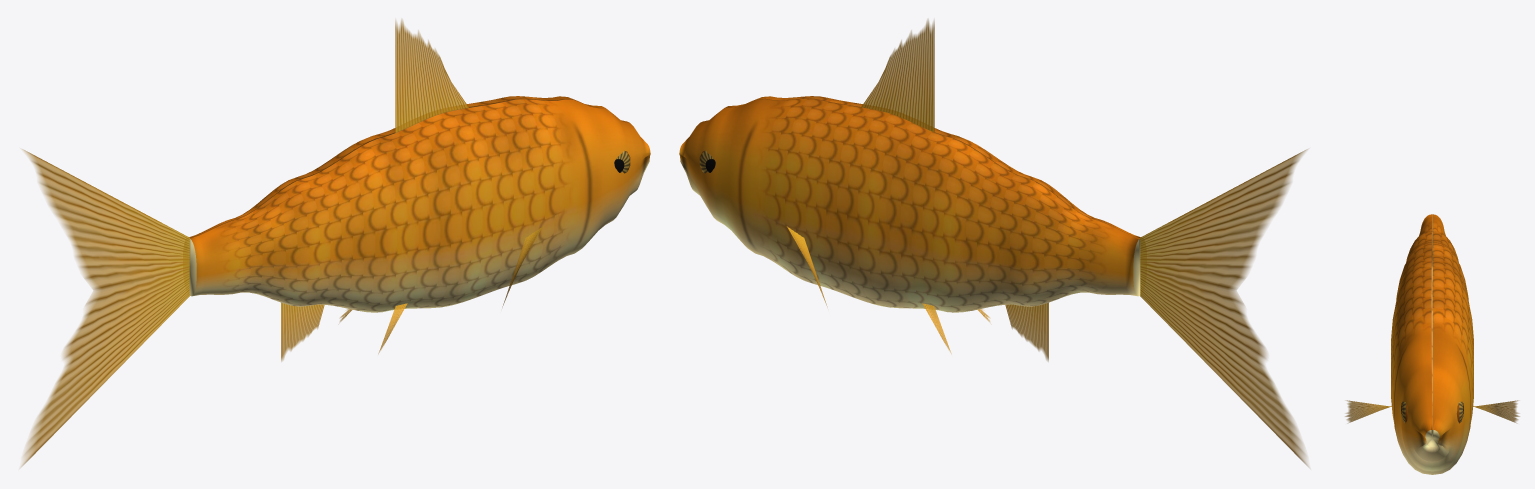
File: oltin.glb
3 views of the same model, side by side, from view 1: azimuth 30°, elevation 25°; view 2: azimuth 150°, elevation 25°; view 3: azimuth 270°, elevation 25° (orthographic). The views are drawn at different scales.
Parts seen in each view (by area): view 1: oltin; view 2: oltin; view 3: oltin.
Boxes of the visible parts, x1,y1,x2,y2 form: oltin: [21, 19, 650, 466]; oltin: [679, 19, 1308, 466]; oltin: [1345, 214, 1519, 474].
Size of the model in its own units: 0.3045 by 0.1694 by 0.0816.
Materials: 1 (1 with a texture image).
